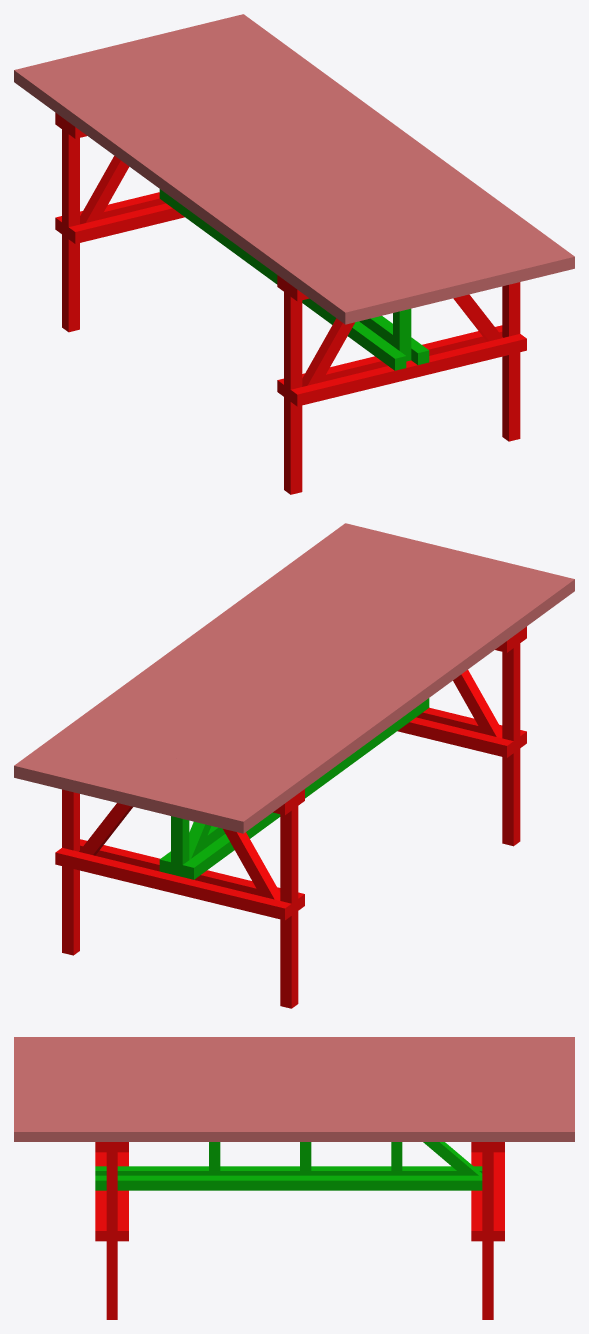
The model's file is result.glb.
3 renders of one model, top to bottom at view 1: azimuth 30°, elevation 25°; view 2: azimuth 150°, elevation 25°; view 3: azimuth 270°, elevation 25°, orthographic. The views are drawn at different scales.
Parts seen in each view (by area): view 1: 16ab7b7a-5d10-47b8-bfa5-2c9ae4c1c081__Box, c0b9dedf-38d4-40ef-be90-669367fe34df__sideH, aaca571d-3b7b-495a-835e-5cb70810cf27__undefined, 3ab6412d-da75-49a7-ae3a-b2bcbaeab8e8__undefined, 82637eab-55cb-4eb4-bbfa-3b884b56fcf0__undefined, a83704a6-ee31-4982-a182-fb83d4a6da5c__undefined, 56a02aae-09af-4f4b-b4c7-c83ec45fec37__undefined, 7b1a1dd1-5557-4602-b610-6b9a45aa225a__undefined, 4e00edb2-8851-4c8a-adbb-e6179d15f03b__undefined, 2baeedca-8b9c-4333-a3f1-89bd6139276c__undefined, 6d7fed1b-5f0a-433c-af4b-0c5b11d1a03f__undefined, ac236869-69d9-4812-8385-628131a53fc9__undefined (+21 smaller); view 2: 16ab7b7a-5d10-47b8-bfa5-2c9ae4c1c081__Box, 036654b1-b265-4ad1-b2cb-7c9c53f4caa6__undefined, aaca571d-3b7b-495a-835e-5cb70810cf27__undefined, 3ab6412d-da75-49a7-ae3a-b2bcbaeab8e8__undefined, 82637eab-55cb-4eb4-bbfa-3b884b56fcf0__undefined, 32967c72-4866-4a88-95fa-d02546a1d106__undefined, edd56906-8518-4a0f-ae14-dd306a22eb27__undefined, 1b133f42-3e43-435e-a652-89ba1491aaa7__undefined, 2baeedca-8b9c-4333-a3f1-89bd6139276c__undefined, a83704a6-ee31-4982-a182-fb83d4a6da5c__undefined, 56a02aae-09af-4f4b-b4c7-c83ec45fec37__undefined, d8c7ee18-8b3e-4d3d-ab22-c0fb9279381d__undefined (+20 smaller); view 3: d01b82d6-1a84-4e59-8071-bab30cbe061c__undefined, 439fcf0f-f9cf-4e3f-b2cd-023cc9ce3582__strutH, 6d7fed1b-5f0a-433c-af4b-0c5b11d1a03f__undefined, 91c98885-af8d-4271-ae4e-75464dc19bb2__undefined, 3ab6412d-da75-49a7-ae3a-b2bcbaeab8e8__undefined, edd56906-8518-4a0f-ae14-dd306a22eb27__undefined, 82637eab-55cb-4eb4-bbfa-3b884b56fcf0__undefined, 1b133f42-3e43-435e-a652-89ba1491aaa7__undefined, 6055b9a7-16d0-443b-bc73-e1d87a328233__undefined, d8c7ee18-8b3e-4d3d-ab22-c0fb9279381d__undefined, 77b31d79-7d0e-42ec-af48-4c6f22f2e38b__strutH, 16ab7b7a-5d10-47b8-bfa5-2c9ae4c1c081__Box (+20 smaller).
Part boxes in pixels (x1,y1,x2,y2): 16ab7b7a-5d10-47b8-bfa5-2c9ae4c1c081__Box: [14, 67, 356, 324]; c0b9dedf-38d4-40ef-be90-669367fe34df__sideH: [290, 334, 526, 406]; aaca571d-3b7b-495a-835e-5cb70810cf27__undefined: [94, 47, 437, 304]; 3ab6412d-da75-49a7-ae3a-b2bcbaeab8e8__undefined: [71, 53, 414, 310]; 82637eab-55cb-4eb4-bbfa-3b884b56fcf0__undefined: [118, 42, 460, 299]; a83704a6-ee31-4982-a182-fb83d4a6da5c__undefined: [60, 56, 402, 313]; 56a02aae-09af-4f4b-b4c7-c83ec45fec37__undefined: [140, 36, 482, 293]; 7b1a1dd1-5557-4602-b610-6b9a45aa225a__undefined: [186, 25, 528, 282]; 4e00edb2-8851-4c8a-adbb-e6179d15f03b__undefined: [221, 17, 563, 274]; 2baeedca-8b9c-4333-a3f1-89bd6139276c__undefined: [175, 28, 517, 285]; 6d7fed1b-5f0a-433c-af4b-0c5b11d1a03f__undefined: [26, 64, 368, 321]; ac236869-69d9-4812-8385-628131a53fc9__undefined: [106, 45, 448, 301]; 16ab7b7a-5d10-47b8-bfa5-2c9ae4c1c081__Box: [232, 576, 574, 833]; 036654b1-b265-4ad1-b2cb-7c9c53f4caa6__undefined: [55, 847, 291, 920]; aaca571d-3b7b-495a-835e-5cb70810cf27__undefined: [151, 557, 494, 813]; 3ab6412d-da75-49a7-ae3a-b2bcbaeab8e8__undefined: [174, 562, 517, 819]; 82637eab-55cb-4eb4-bbfa-3b884b56fcf0__undefined: [128, 551, 470, 808]; 32967c72-4866-4a88-95fa-d02546a1d106__undefined: [197, 568, 539, 825]; edd56906-8518-4a0f-ae14-dd306a22eb27__undefined: [163, 559, 505, 816]; 1b133f42-3e43-435e-a652-89ba1491aaa7__undefined: [117, 548, 459, 805]; 2baeedca-8b9c-4333-a3f1-89bd6139276c__undefined: [71, 537, 413, 794]; a83704a6-ee31-4982-a182-fb83d4a6da5c__undefined: [186, 565, 528, 822]; 56a02aae-09af-4f4b-b4c7-c83ec45fec37__undefined: [106, 545, 448, 802]; d8c7ee18-8b3e-4d3d-ab22-c0fb9279381d__undefined: [37, 529, 379, 785]; d01b82d6-1a84-4e59-8071-bab30cbe061c__undefined: [14, 1127, 574, 1141]; 439fcf0f-f9cf-4e3f-b2cd-023cc9ce3582__strutH: [95, 1175, 482, 1190]; 6d7fed1b-5f0a-433c-af4b-0c5b11d1a03f__undefined: [14, 1041, 574, 1046]; 91c98885-af8d-4271-ae4e-75464dc19bb2__undefined: [14, 1046, 574, 1051]; 3ab6412d-da75-49a7-ae3a-b2bcbaeab8e8__undefined: [14, 1060, 574, 1065]; edd56906-8518-4a0f-ae14-dd306a22eb27__undefined: [14, 1065, 574, 1070]; 82637eab-55cb-4eb4-bbfa-3b884b56fcf0__undefined: [14, 1079, 574, 1084]; 1b133f42-3e43-435e-a652-89ba1491aaa7__undefined: [14, 1084, 574, 1089]; 6055b9a7-16d0-443b-bc73-e1d87a328233__undefined: [14, 1098, 574, 1103]; d8c7ee18-8b3e-4d3d-ab22-c0fb9279381d__undefined: [14, 1117, 574, 1122]; 77b31d79-7d0e-42ec-af48-4c6f22f2e38b__strutH: [95, 1166, 482, 1175]; 16ab7b7a-5d10-47b8-bfa5-2c9ae4c1c081__Box: [14, 1037, 574, 1041].
Size of the model in its own units: 800 by 740 by 2000.
